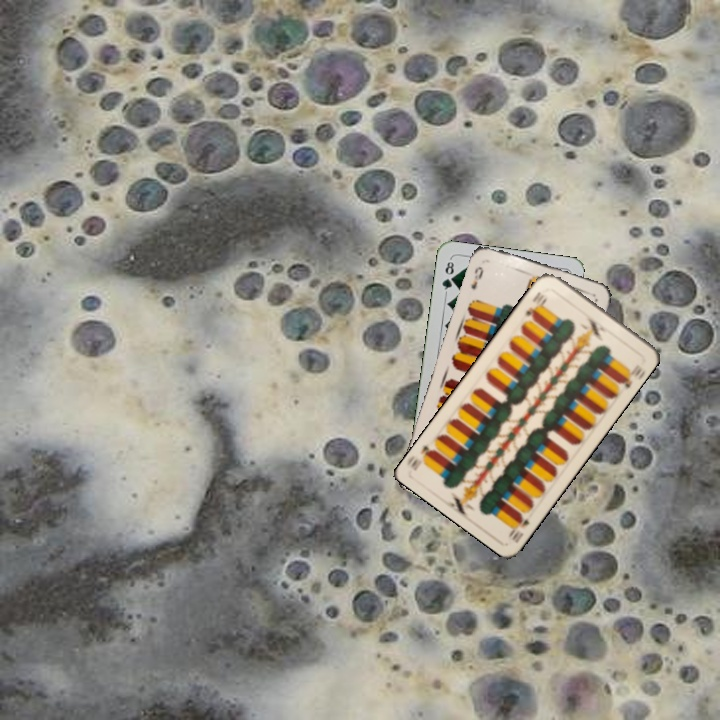E10: (504, 510, 532, 545), (521, 287, 548, 321)
E9: (467, 262, 486, 292)
G8: (438, 255, 457, 296)
